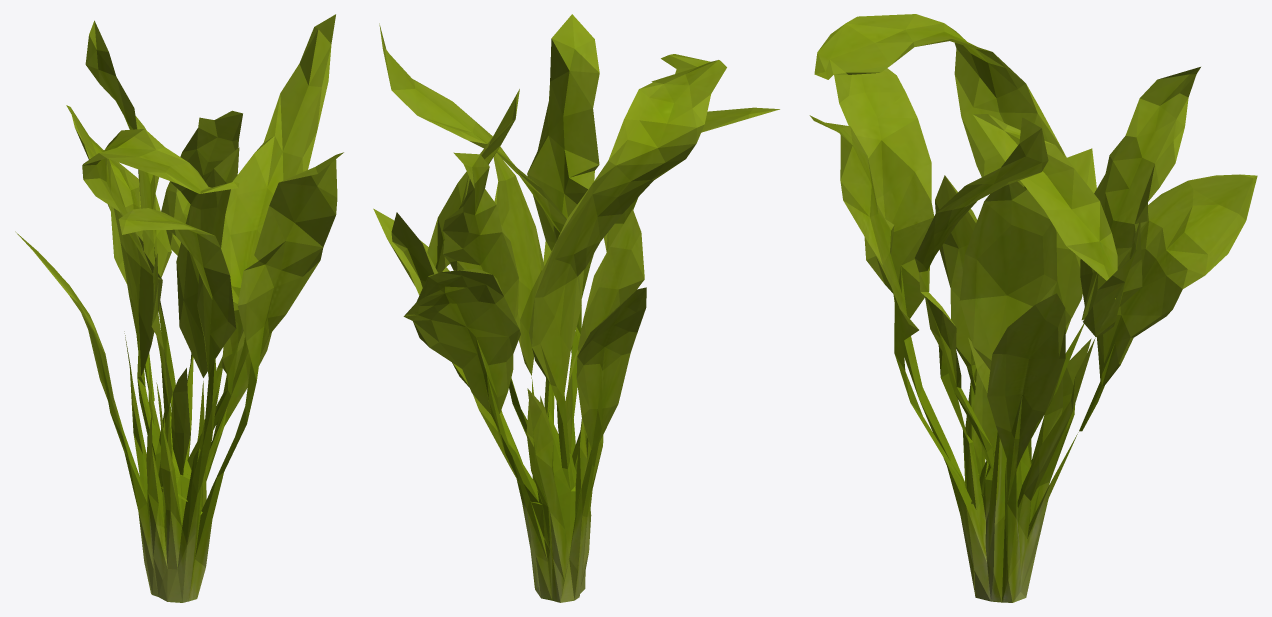
File: amazon-sword.glb
The picture shows the model from 3 angles, left to right: view 1: azimuth 30°, elevation 25°; view 2: azimuth 150°, elevation 25°; view 3: azimuth 270°, elevation 25°; orthographic projection. The views are drawn at different scales.
Visible parts, largest first — view 1: tripo_node_e0f9d954-f2be-4256-a030-bfac7c915d15; view 2: tripo_node_e0f9d954-f2be-4256-a030-bfac7c915d15; view 3: tripo_node_e0f9d954-f2be-4256-a030-bfac7c915d15.
Part boxes in pixels (left/top/right/bottom): tripo_node_e0f9d954-f2be-4256-a030-bfac7c915d15: left=15, top=14, right=343, bottom=602; tripo_node_e0f9d954-f2be-4256-a030-bfac7c915d15: left=373, top=14, right=779, bottom=602; tripo_node_e0f9d954-f2be-4256-a030-bfac7c915d15: left=809, top=14, right=1257, bottom=602.
Bounding box in the file's own units: 0.588 × 0.9734 × 0.6997.
1 material, 1 textured.
